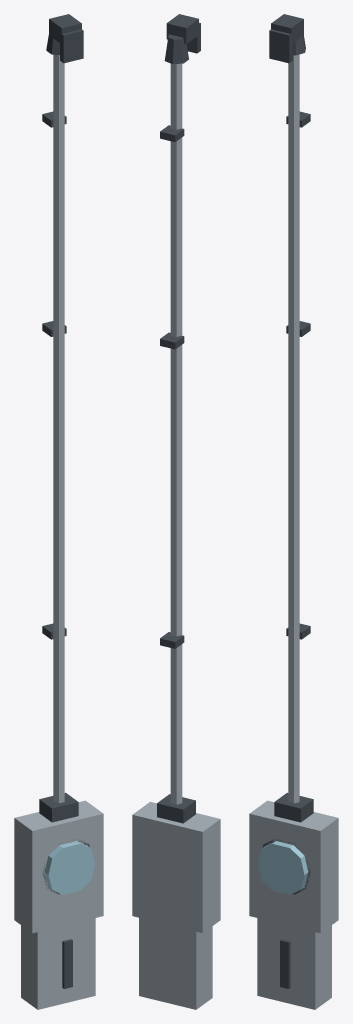
File: GL_ServiceEntry_01.glb
3 renders of one model, left to right at view 1: azimuth 30°, elevation 25°; view 2: azimuth 150°, elevation 25°; view 3: azimuth 330°, elevation 25°, orthographic.
Visible parts, largest first — view 1: GL_ServiceEntry_01; view 2: GL_ServiceEntry_01; view 3: GL_ServiceEntry_01.
Boxes of the visible parts, left/top/right/bottom form: GL_ServiceEntry_01: left=14, top=14, right=103, bottom=1009; GL_ServiceEntry_01: left=132, top=14, right=220, bottom=1009; GL_ServiceEntry_01: left=249, top=14, right=338, bottom=1009.
Size of the model in its own units: 0.32 by 4.21 by 0.185.
1 material, 1 textured.
